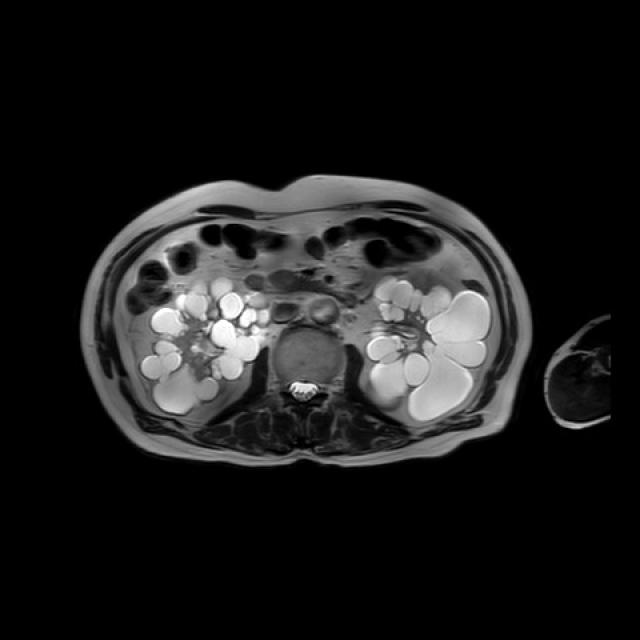sag: (139, 274, 274, 412)
sol: (366, 275, 491, 420)
